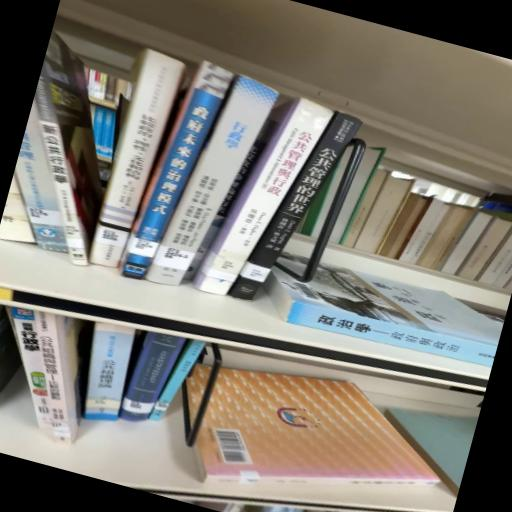flat: (195, 369, 439, 487), (265, 263, 503, 367)
